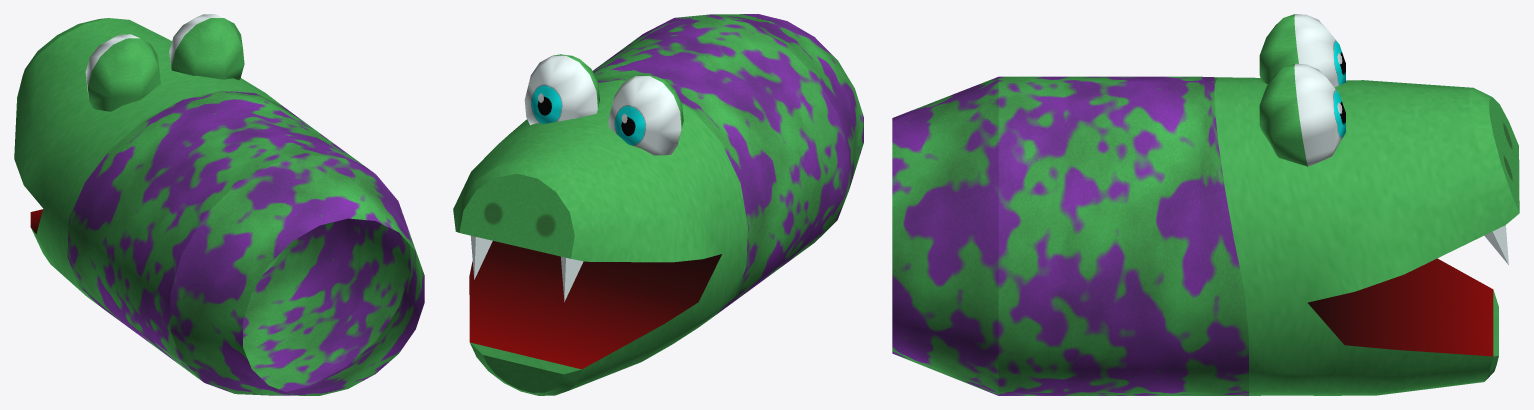
The model's file is bodyHeadOpen.fbx.
3 views of the same model, side by side, from view 1: azimuth 30°, elevation 25°; view 2: azimuth 150°, elevation 25°; view 3: azimuth 270°, elevation 25° (orthographic). The views are drawn at different scales.
Visible parts, largest first — view 1: bodyHeadOpen; view 2: bodyHeadOpen; view 3: bodyHeadOpen.
Boxes of the visible parts, x1=… form: bodyHeadOpen: x1=14, y1=14, x2=424, y2=395; bodyHeadOpen: x1=453, y1=14, x2=863, y2=395; bodyHeadOpen: x1=892, y1=14, x2=1519, y2=395.
Size of the model in its own units: 1.28 by 1.41 by 2.38.
Materials: 2 (2 with a texture image).
